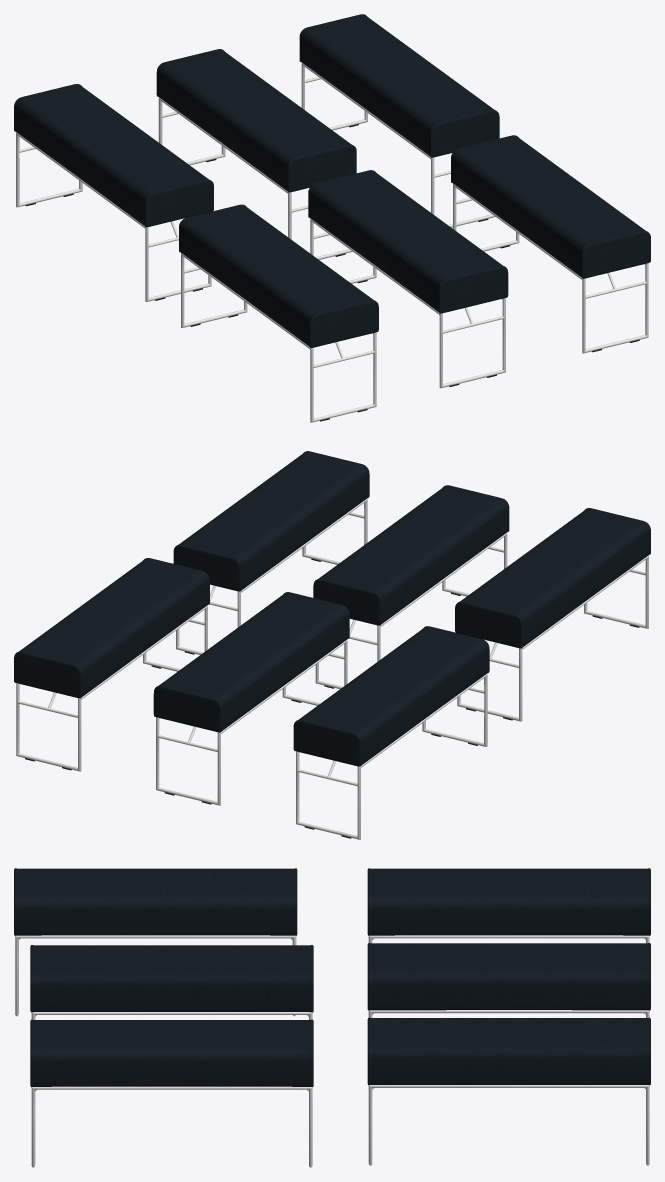
The model's file is multiple_benches_Instance_01.glb.
The picture shows the model from 3 angles, top to bottom: view 1: azimuth 30°, elevation 25°; view 2: azimuth 150°, elevation 25°; view 3: azimuth 270°, elevation 25°; orthographic projection. The views are drawn at different scales.
Parts seen in each view (by area): view 1: allermuir_pause_PSB154H_main_03_obj.006 (×2), allermuir_pause_PSB154H_main_03_obj.007, allermuir_pause_PSB154H_main_03_obj.010, allermuir_pause_PSB154H_main_03_obj.009, allermuir_pause_PSB154H_main_03_obj.008; view 2: allermuir_pause_PSB154H_main_03_obj.006 (×2), allermuir_pause_PSB154H_main_03_obj.010, allermuir_pause_PSB154H_main_03_obj.008, allermuir_pause_PSB154H_main_03_obj.009, allermuir_pause_PSB154H_main_03_obj.007; view 3: allermuir_pause_PSB154H_main_03_obj.006 (×2), allermuir_pause_PSB154H_main_03_obj.009, allermuir_pause_PSB154H_main_03_obj.007, allermuir_pause_PSB154H_main_03_obj.010, allermuir_pause_PSB154H_main_03_obj.008.
Boxes of the visible parts, left/top/right/bottom form: allermuir_pause_PSB154H_main_03_obj.006 (×2): left=308, top=135, right=650, bottom=388; allermuir_pause_PSB154H_main_03_obj.007: left=179, top=204, right=378, bottom=422; allermuir_pause_PSB154H_main_03_obj.010: left=14, top=84, right=213, bottom=301; allermuir_pause_PSB154H_main_03_obj.009: left=299, top=14, right=499, bottom=227; allermuir_pause_PSB154H_main_03_obj.008: left=156, top=49, right=356, bottom=259; allermuir_pause_PSB154H_main_03_obj.006 (×2): left=173, top=451, right=509, bottom=689; allermuir_pause_PSB154H_main_03_obj.010: left=293, top=626, right=489, bottom=839; allermuir_pause_PSB154H_main_03_obj.008: left=153, top=592, right=349, bottom=805; allermuir_pause_PSB154H_main_03_obj.009: left=14, top=558, right=209, bottom=771; allermuir_pause_PSB154H_main_03_obj.007: left=455, top=508, right=650, bottom=721; allermuir_pause_PSB154H_main_03_obj.006 (×2): left=30, top=945, right=313, bottom=1167; allermuir_pause_PSB154H_main_03_obj.009: left=367, top=1017, right=650, bottom=1165; allermuir_pause_PSB154H_main_03_obj.007: left=14, top=868, right=297, bottom=1016; allermuir_pause_PSB154H_main_03_obj.010: left=367, top=868, right=650, bottom=943; allermuir_pause_PSB154H_main_03_obj.008: left=367, top=943, right=650, bottom=1017.
Size of the model in its own units: 248 by 75.89 by 360.
Materials: 15 (5 with a texture image).
